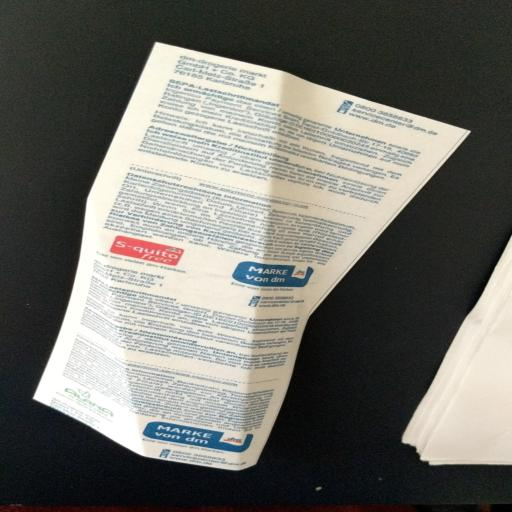paper: (15, 1, 493, 507)
